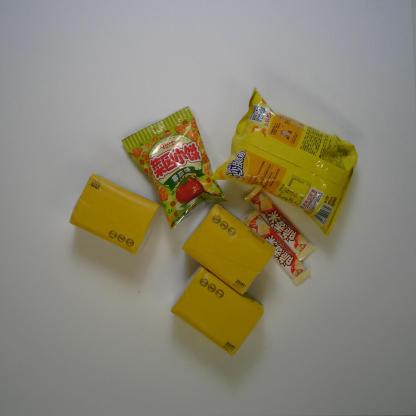Chocolate: (244, 184, 316, 263), (242, 209, 312, 286)
Puffed Food: (210, 87, 358, 237), (121, 105, 228, 231)
Tissue: (168, 263, 264, 358), (181, 202, 276, 296), (68, 173, 161, 256)
